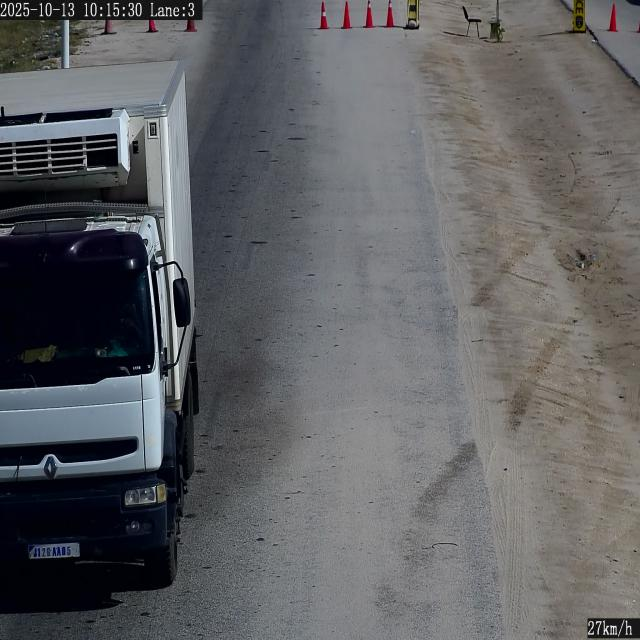BUS: (29, 543, 79, 559)
